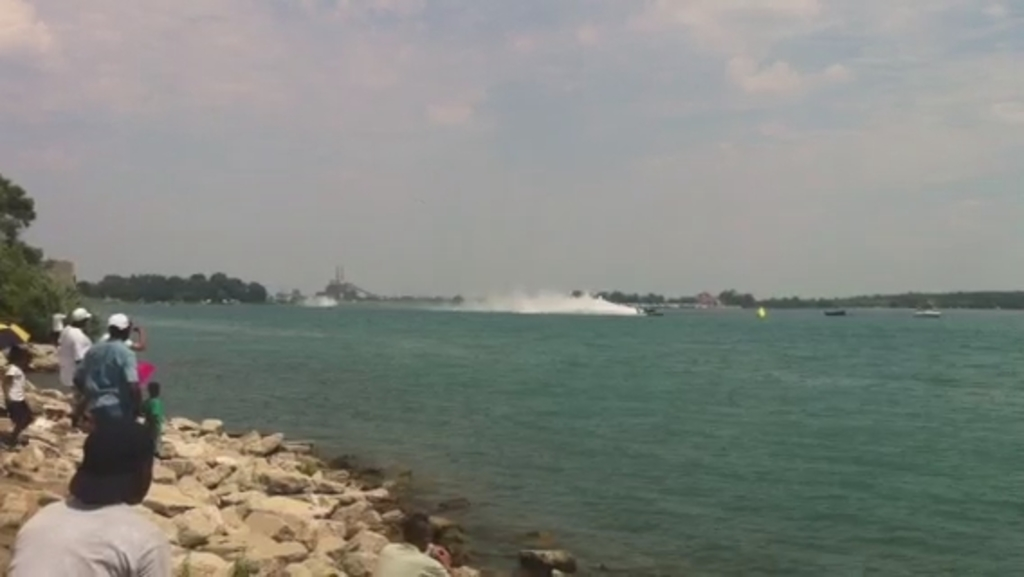Person: (3, 304, 161, 505)
